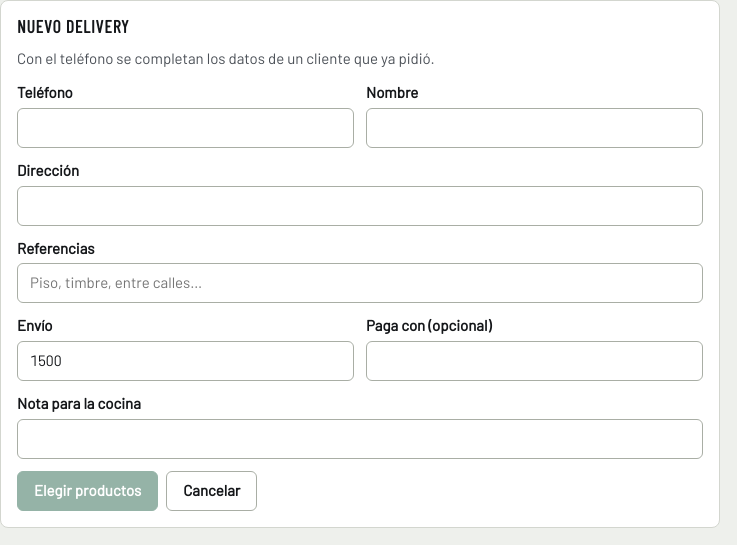
un teléfono conocido completa los datos y el pedido se crea con el envío y el paga con
Later steps or results of the test are not shown.
Type "1155551234" into the field labelled "Teléfono".
click(186, 128); type("1155551234")  # box x1=17 y1=108 x2=354 y2=148
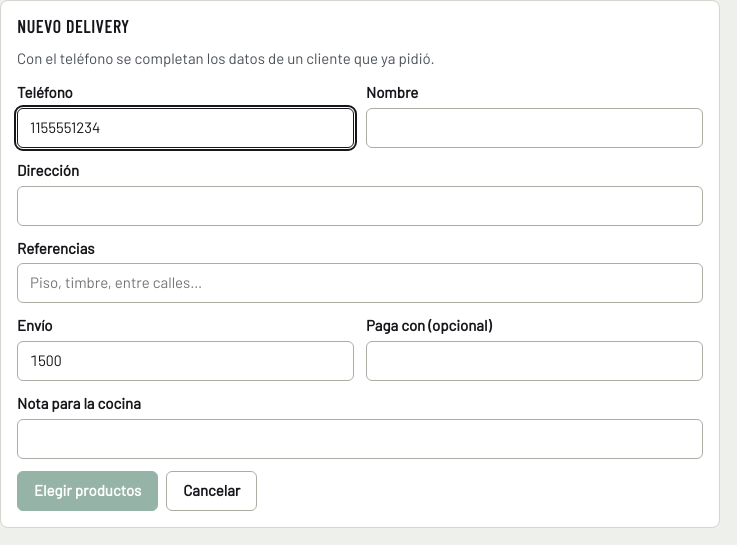
Press Tab
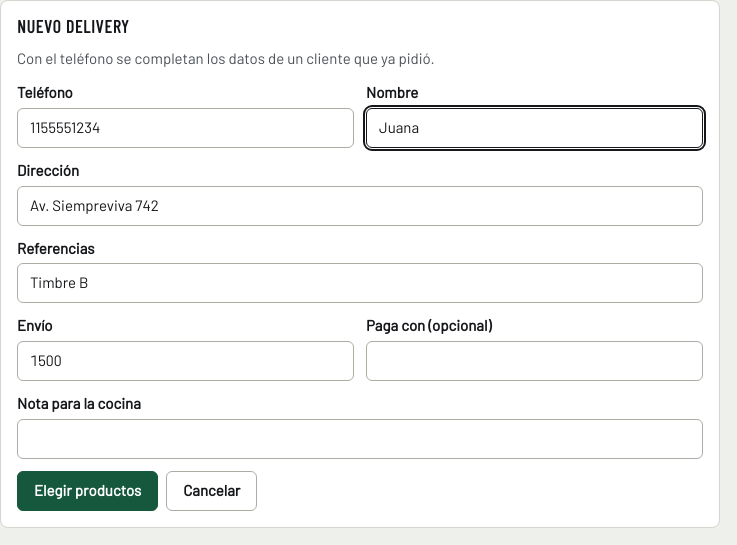
Expected: the field labelled "Envío" holds "1500", x1=17 y1=341 x2=354 y2=381
Now the field showing "Av. Siempreviva 742" is shown, box x1=17 y1=186 x2=703 y2=226
Now the field labelled "Nombre" holds "Juana", box x1=366 y1=108 x2=703 y2=148
